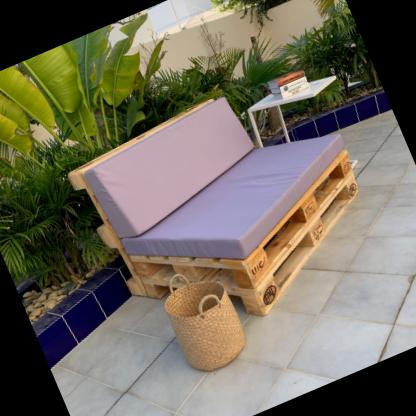BoxFace: (123, 147, 353, 289), (252, 170, 366, 314)
